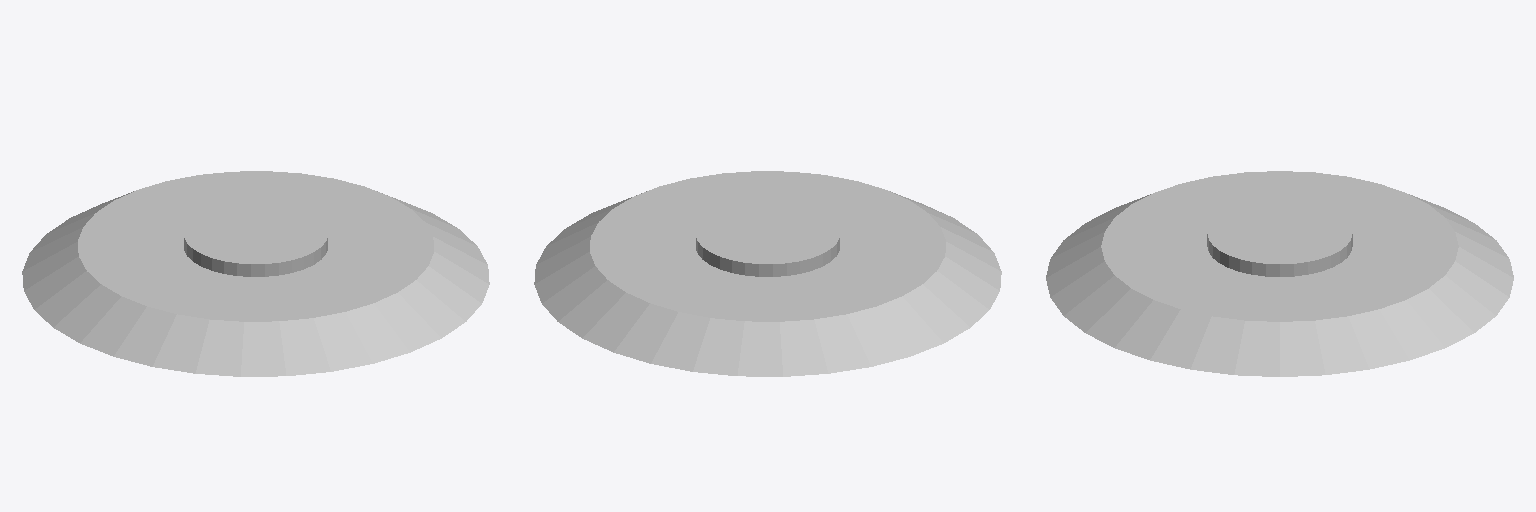
Rendered from LamdBase.obj.
3 renders of one model, left to right at view 1: azimuth 30°, elevation 25°; view 2: azimuth 150°, elevation 25°; view 3: azimuth 270°, elevation 25°, orthographic.
Parts seen in each view (by area): view 1: Cylinder; view 2: Cylinder; view 3: Cylinder.
Boxes of the visible parts, <box> form: Cylinder: <box>22,171,489,376</box>; Cylinder: <box>534,171,1001,376</box>; Cylinder: <box>1046,171,1513,376</box>.
Size of the model in its own units: 8.47 by 0.8875 by 8.47.